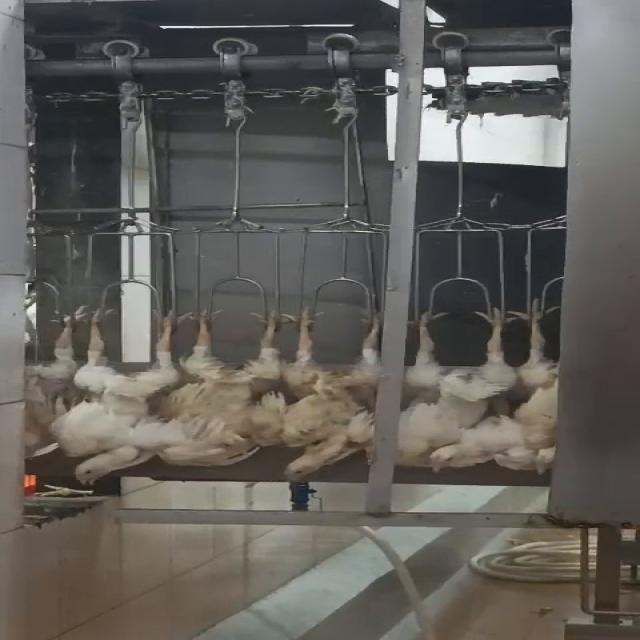chicken: (50, 307, 197, 493), (151, 304, 285, 469), (395, 302, 509, 474), (274, 302, 378, 482), (5, 304, 104, 466), (507, 297, 573, 478)
